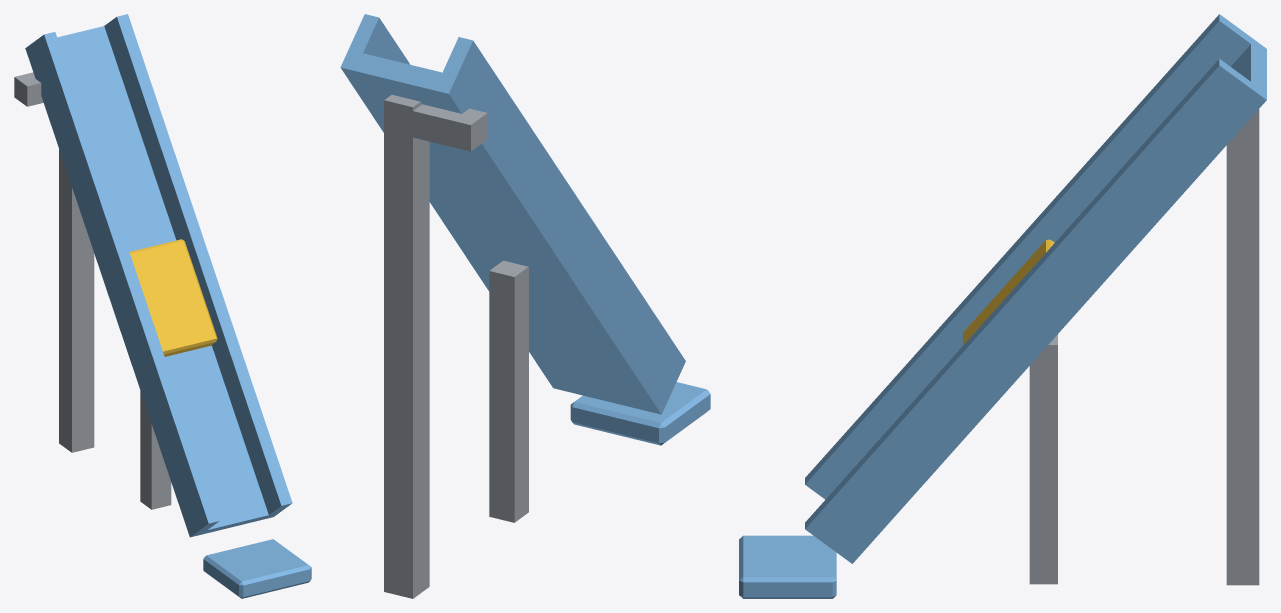
The model's file is delegation_m1_1.glb.
3 views of the same model, side by side, from view 1: azimuth 30°, elevation 25°; view 2: azimuth 150°, elevation 25°; view 3: azimuth 270°, elevation 25° (orthographic). The views are drawn at different scales.
Parts seen in each view (by area): view 1: delegation_m1_1_mesh; view 2: delegation_m1_1_mesh; view 3: delegation_m1_1_mesh.
Boxes of the visible parts, x1,y1,x2,y2 form: delegation_m1_1_mesh: [14, 14, 311, 598]; delegation_m1_1_mesh: [340, 14, 710, 598]; delegation_m1_1_mesh: [739, 14, 1266, 598].
Bounding box in the file's own units: 0.175 × 0.7315 × 0.6494.
